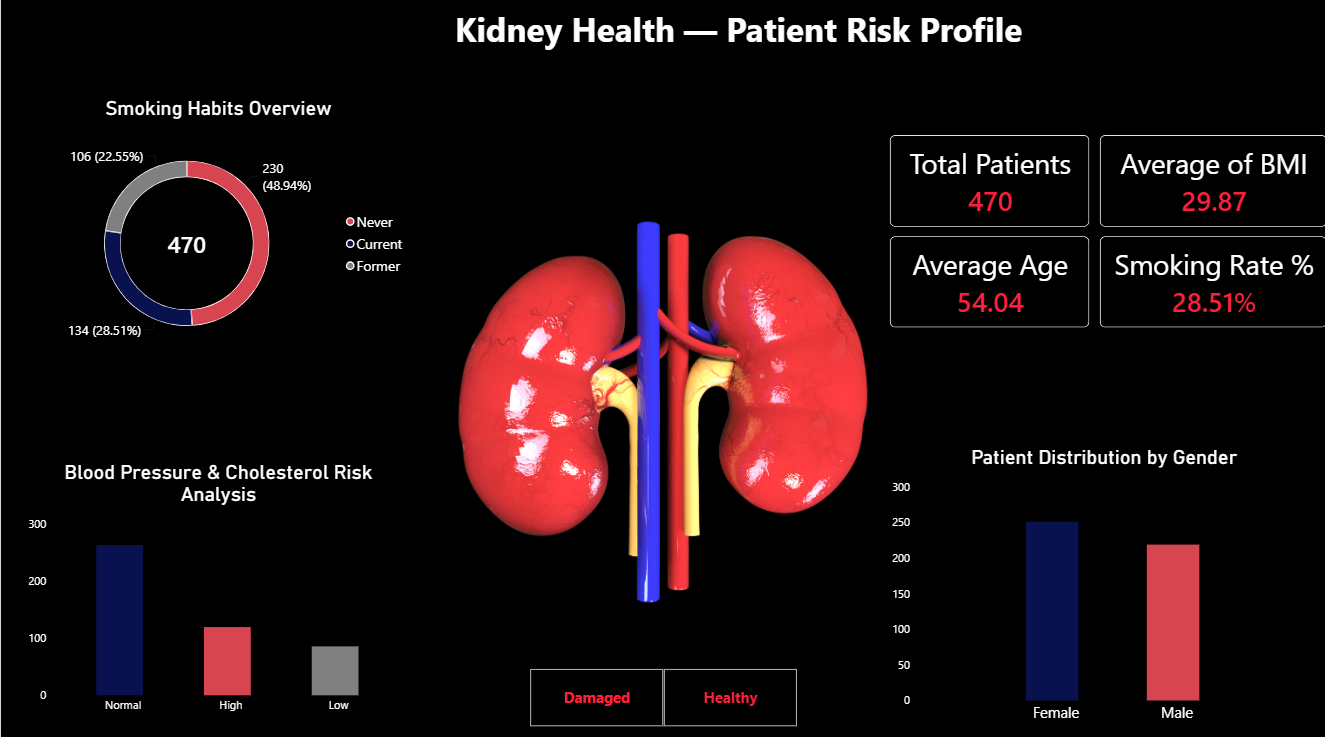

Layout of this report page (visuals, bound fields, positions):
{"tool":"powerbi","page":{"name":"Kidney","canvas":[1920,1080],"ordinal":4},"visuals":[{"type":"image","box":[613.5,307.6,689.5,591.8],"z":0},{"type":"donutChart","title":"Smoking Habits Overview","fields":{"Category":["HealthData.Smoking_Status"],"Y":["CountNonNull(HealthData.Patient_ID)"]},"box":[23.5,132.1,582.7,407.2],"z":1000},{"type":"clusteredColumnChart","title":"Patient Distribution by Gender","fields":{"Category":["HealthData.Gender"],"Y":["CountNonNull(HealthData.Patient_ID)"]},"box":[1274,637,646,437.9],"z":2000},{"type":"clusteredColumnChart","title":"Blood Pressure & Cholesterol Risk Analysis","fields":{"Category":["HealthData.BP_Risk"],"Y":["CountNonNull(HealthData.Patient_ID)"]},"box":[23.5,658.7,582.7,401.7],"z":3000},{"type":"textbox","box":[244.3,16.3,1646.8,85.1],"z":3001},{"type":"cardVisual","fields":{"Data":["HealthData.Total Patients"]},"box":[1286.7,202.7,289.5,133.9],"z":3002},{"type":"cardVisual","fields":{"Data":["HealthData.Average Age"]},"box":[1286.7,349.3,289.5,132.1],"z":3003},{"type":"cardVisual","fields":{"Data":["Avg(HealthData.BMI)"]},"box":[1590.7,202.7,329.4,133.9],"z":3004},{"type":"cardVisual","fields":{"Data":["HealthData.Smoking Rate %"]},"box":[1590.7,349.3,329.4,132.1],"z":3005},{"type":"slicer","fields":{"Values":["HealthData.Organ_Condition"]},"box":[745.6,973.6,425.3,86.9],"z":3006}]}

Visuals, with their boxes in screenshot pixels (x1, y1, x2, y2), scaled from the page's 1920x1080 canvas onto the 1325x737 screenshot:
image: 423:210:899:614
"Smoking Habits Overview" donutChart: 16:90:418:368
"Patient Distribution by Gender" clusteredColumnChart: 879:435:1324:734
"Blood Pressure & Cholesterol Risk Analysis" clusteredColumnChart: 16:450:418:724
textbox: 169:11:1305:69
cardVisual - HealthData.Total Patients: 888:138:1088:230
cardVisual - HealthData.Average Age: 888:238:1088:329
cardVisual - Avg(HealthData.BMI): 1098:138:1324:230
cardVisual - HealthData.Smoking Rate %: 1098:238:1324:329
slicer - HealthData.Organ_Condition: 515:664:808:724
